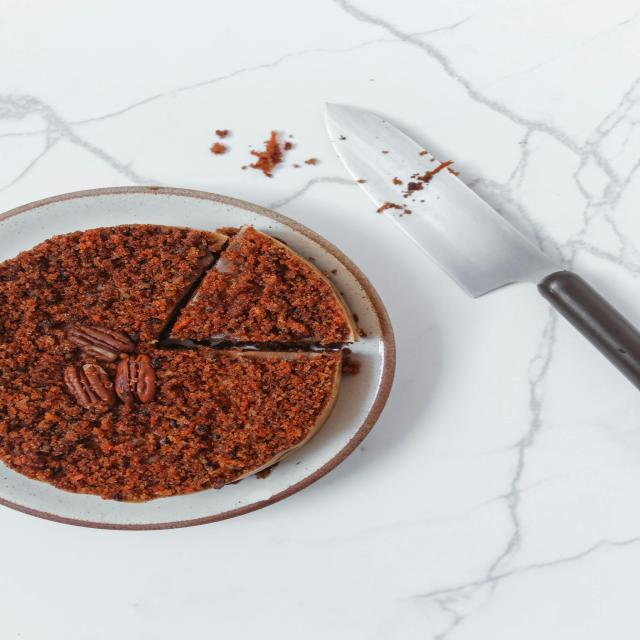knife: (327, 104, 640, 393)
